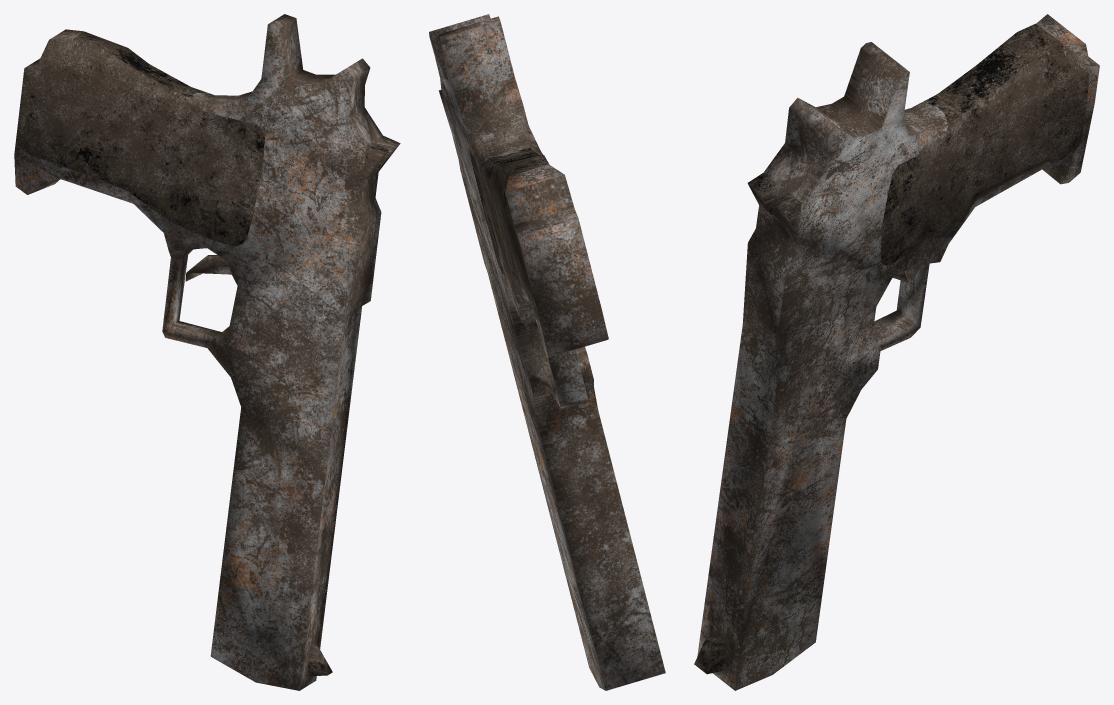
Rendered from Anim_disparar_pistola_objetos.0017.obj.
The picture shows the model from 3 angles, left to right: view 1: azimuth 30°, elevation 25°; view 2: azimuth 150°, elevation 25°; view 3: azimuth 270°, elevation 25°; orthographic projection. The views are drawn at different scales.
Visible parts, largest first — view 1: Pistola1; view 2: Pistola1; view 3: Pistola1.
Part boxes in pixels (x1,y1,x2,y2): Pistola1: [14, 14, 400, 690]; Pistola1: [429, 14, 665, 690]; Pistola1: [694, 14, 1099, 690].
Size of the model in its own units: 0.7843 by 1.71 by 0.9549.
